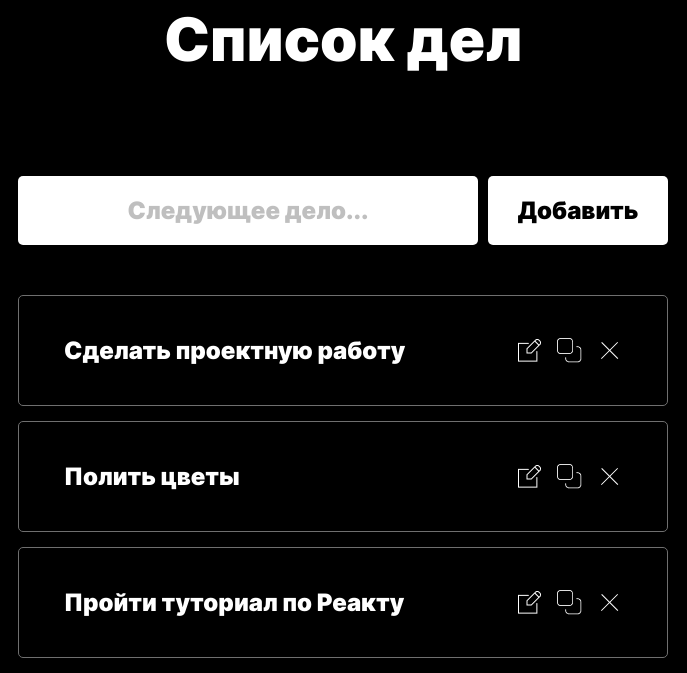
Test: добавляет новую задачу в начало списка и очищает инпут
The width and height of the screenshot is (687, 673).
Type "Новая задача" into the field with placeholder "Следующее дело..." at [248, 210], box x1=18 y1=176 x2=478 y2=245
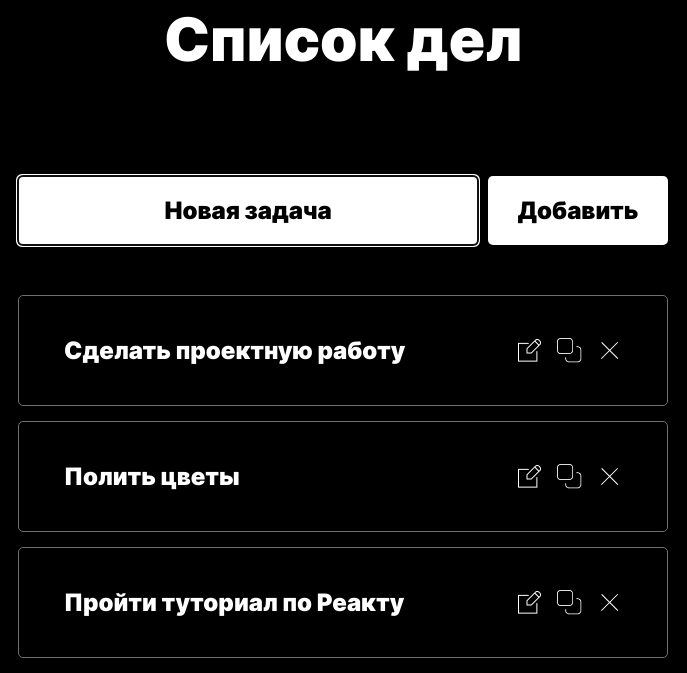
Click the button "Добавить" at [578, 210], box x1=488 y1=176 x2=668 y2=245
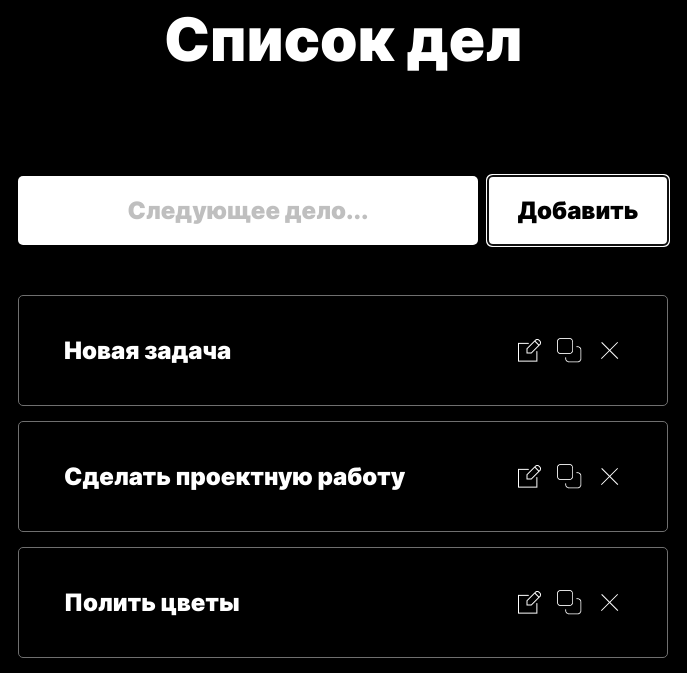
Check: the list item "Новая задача" is shown, box x1=18 y1=295 x2=668 y2=406
Check: the field with placeholder "Следующее дело..." is empty, box x1=18 y1=176 x2=478 y2=245
